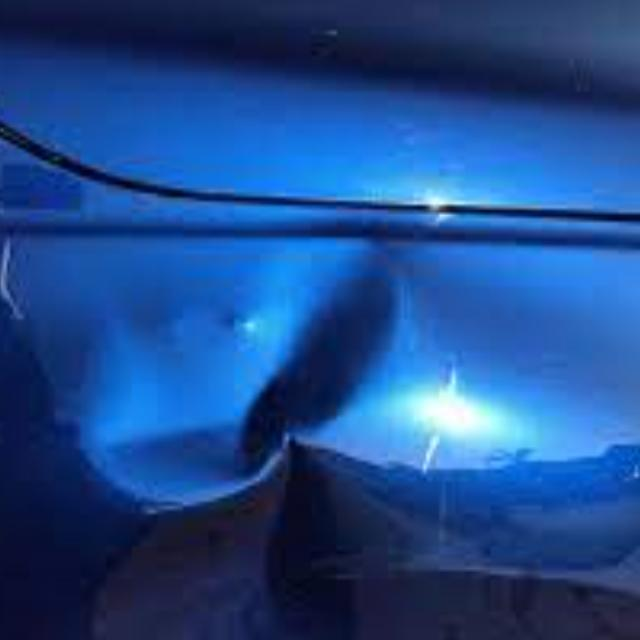dents: (179, 250, 443, 534)
